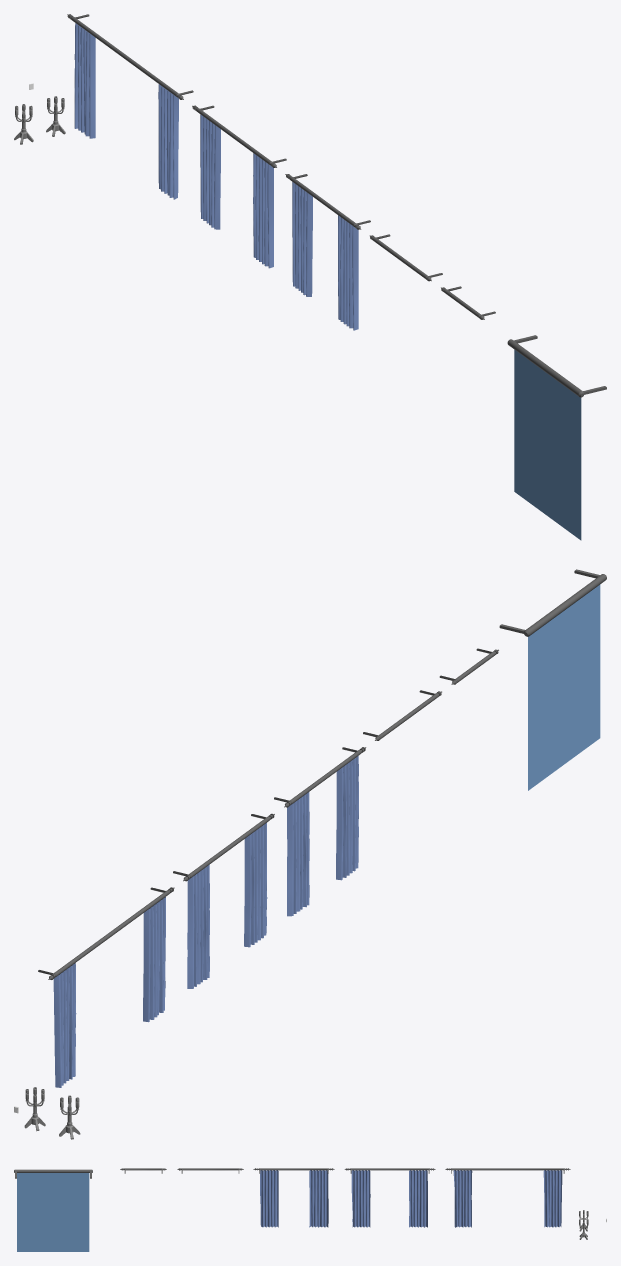
Rendered from MISC.fbx.
3 renders of one model, top to bottom at view 1: azimuth 30°, elevation 25°; view 2: azimuth 150°, elevation 25°; view 3: azimuth 270°, elevation 25°, orthographic. The views are drawn at different scales.
Visible parts, largest first — view 1: BlindHolder, CurtainsXXL, CurtainsL, CurtainsXL, Blind, CurtainRodXXL; view 2: BlindHolder, CurtainsL, CurtainsXL, CurtainsXXL, Blind, CurtainRodXXL; view 3: BlindHolder, CurtainsL, CurtainsXL, CurtainsXXL, CurtainRodXXL, Blind, CurtainRodXL, CurtainRodL, CurtainRodM, CurtainRodS.
Part boxes in pixels (x1=…): BlindHolder: x1=514, y1=349, x2=581, y2=540; CurtainsXXL: x1=74, y1=23, x2=178, y2=199; CurtainsL: x1=292, y1=182, x2=358, y2=330; CurtainsXL: x1=200, y1=114, x2=273, y2=268; Blind: x1=507, y1=335, x2=606, y2=397; CurtainRodXXL: x1=67, y1=14, x2=193, y2=99; BlindHolder: x1=528, y1=584, x2=600, y2=790; CurtainsL: x1=287, y1=756, x2=358, y2=916; CurtainsXL: x1=187, y1=823, x2=267, y2=988; CurtainsXXL: x1=53, y1=897, x2=165, y2=1087; Blind: x1=499, y1=569, x2=606, y2=636; CurtainRodXXL: x1=38, y1=887, x2=174, y2=979; BlindHolder: x1=17, y1=1173, x2=89, y2=1251; CurtainsL: x1=260, y1=1170, x2=328, y2=1227; CurtainsXL: x1=351, y1=1170, x2=427, y2=1227; CurtainsXXL: x1=453, y1=1170, x2=562, y2=1227; CurtainRodXXL: x1=445, y1=1168, x2=570, y2=1173; Blind: x1=14, y1=1169, x2=92, y2=1178; CurtainRodXL: x1=344, y1=1168, x2=435, y2=1173; CurtainRodL: x1=253, y1=1168, x2=334, y2=1173; CurtainRodM: x1=177, y1=1168, x2=243, y2=1173; CurtainRodS: x1=120, y1=1168, x2=166, y2=1173.
Size of the model in its own units: 79.94 by 179 by 1156.
